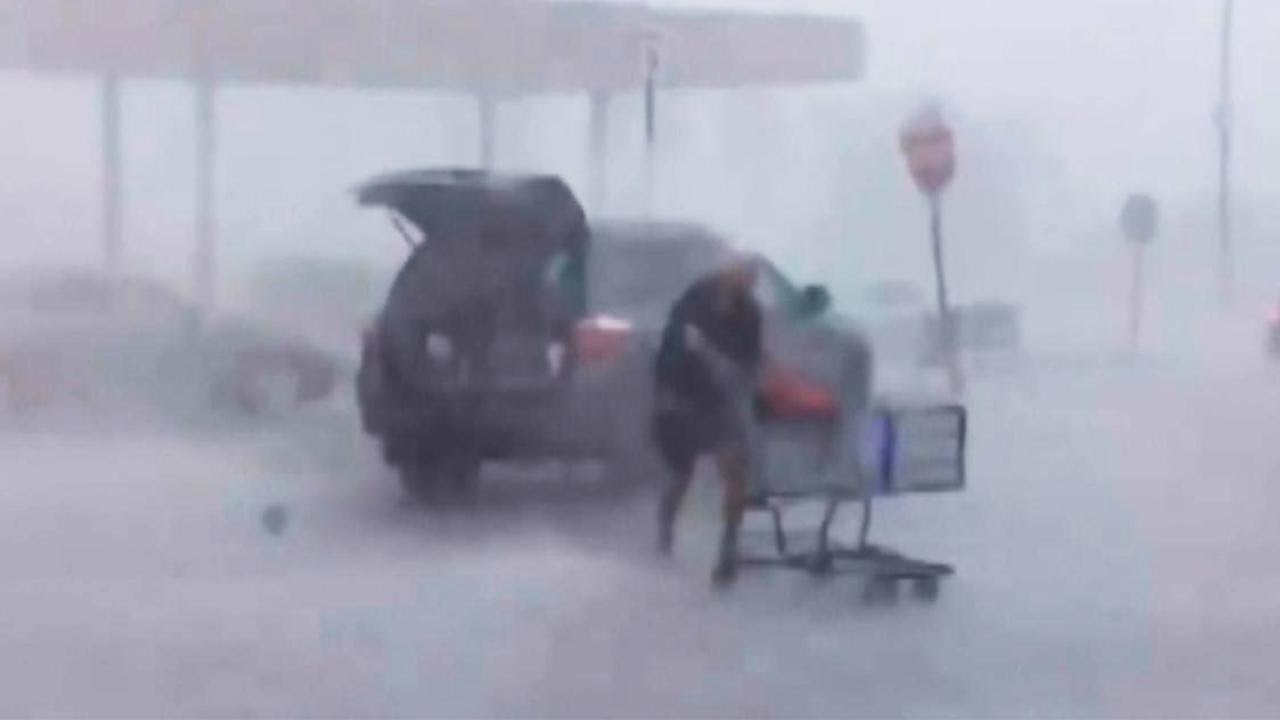car: (354, 165, 648, 516)
person: (646, 244, 762, 582)
